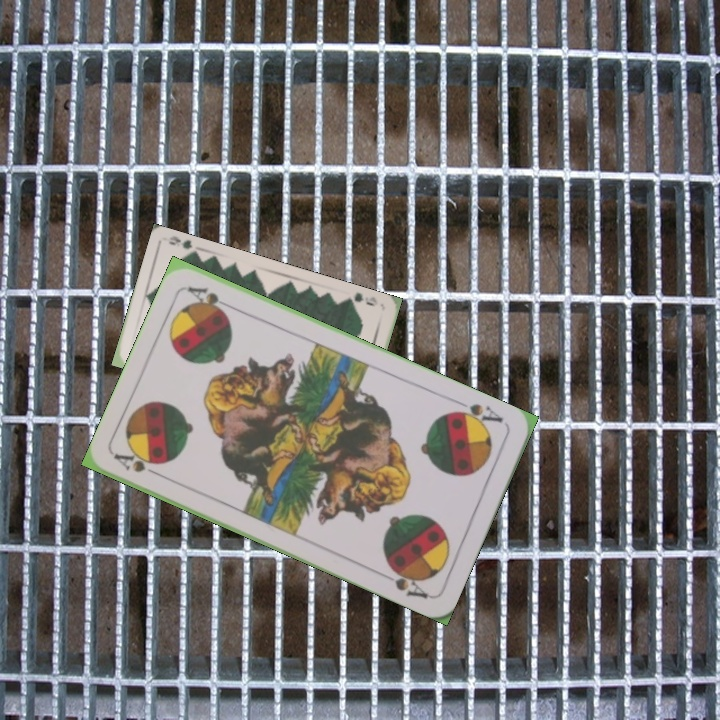G9: (343, 288, 380, 309)
SA: (448, 399, 506, 432), (111, 449, 168, 481)
